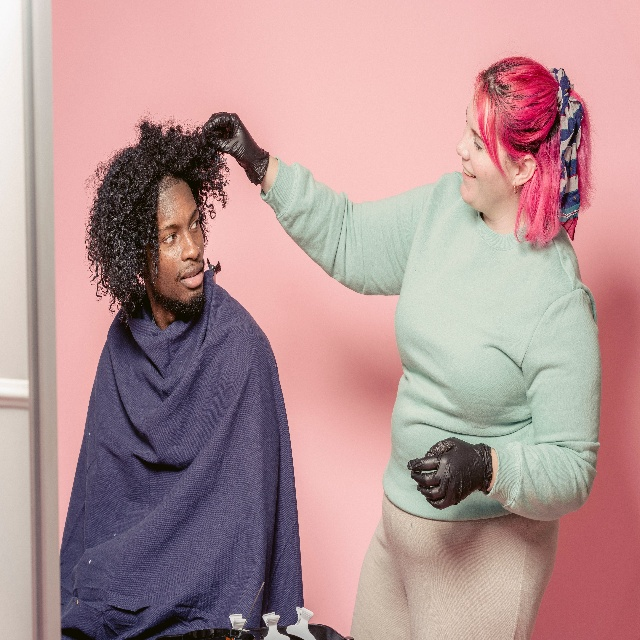Guantes: (407, 438, 493, 510), (201, 110, 268, 185)
